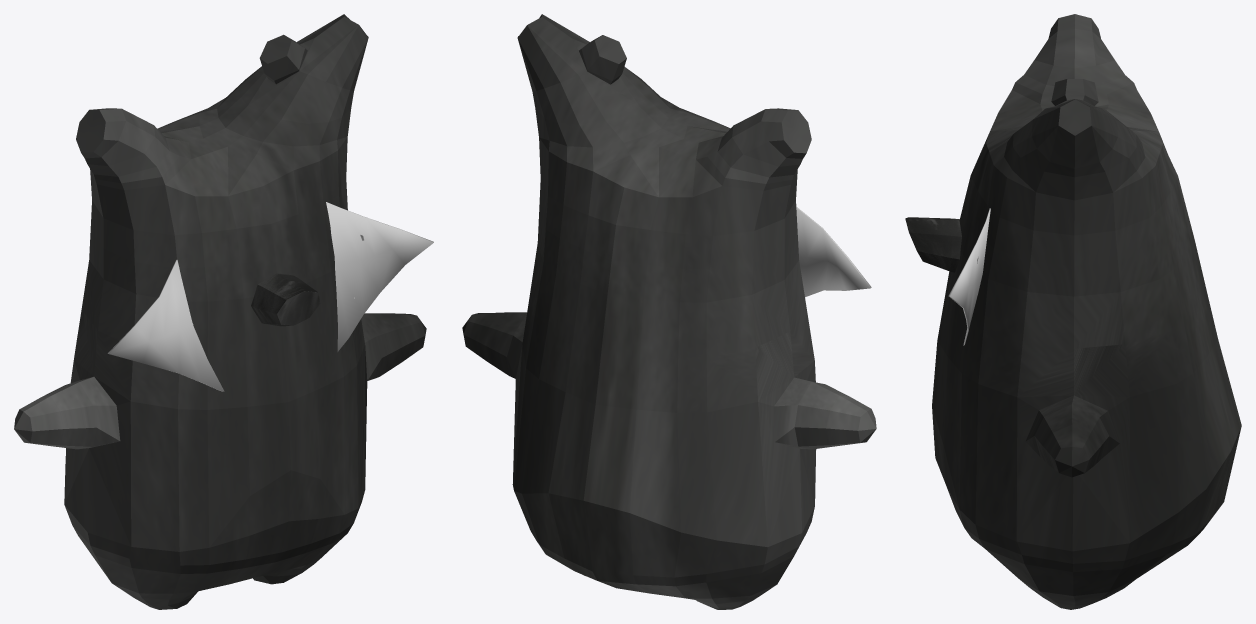
Rendered from frame_0039.obj.
The picture shows the model from 3 angles, left to right: view 1: azimuth 30°, elevation 25°; view 2: azimuth 150°, elevation 25°; view 3: azimuth 270°, elevation 25°; orthographic projection.
Visible parts, largest first — view 1: korok, leaf, nose; view 2: korok, leaf; view 3: korok, nose, leaf.
Part boxes in pixels (x1,y1,x2,y2): korok: [14, 14, 426, 609]; leaf: [108, 202, 433, 391]; nose: [251, 273, 320, 326]; korok: [462, 14, 876, 609]; leaf: [796, 207, 871, 297]; korok: [932, 14, 1241, 609]; nose: [905, 217, 961, 272]; leaf: [948, 208, 990, 345].
Size of the model in its own units: 1.78 by 2.25 by 1.27.
